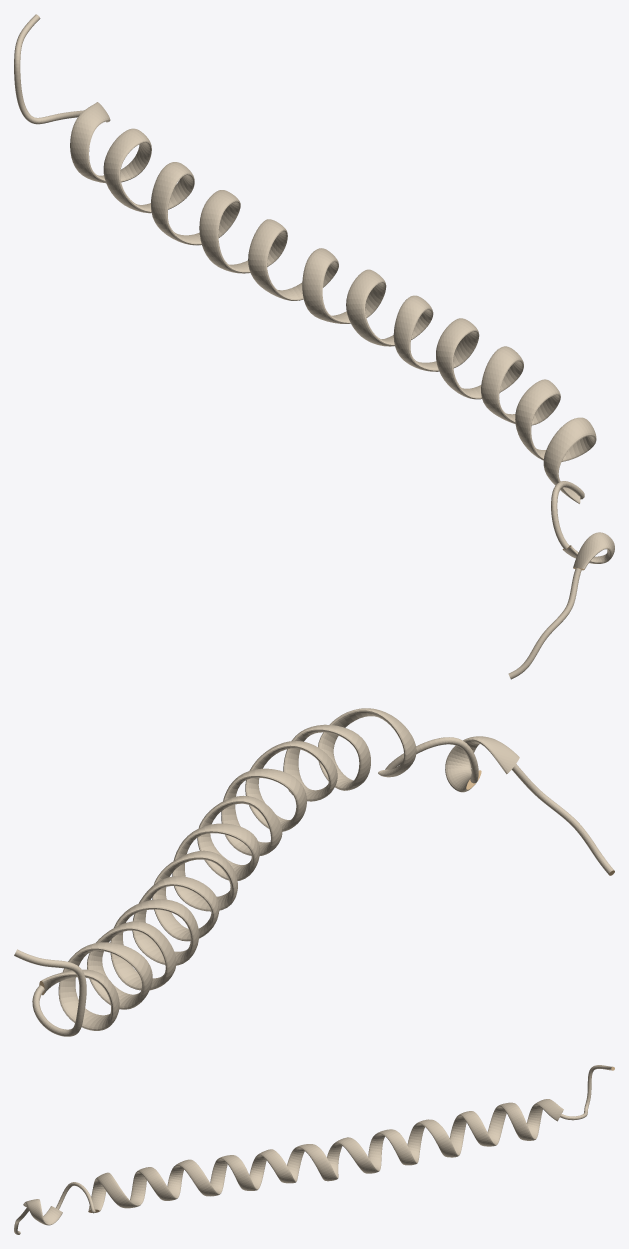
Rendered from SheetfCoilHelix.dae.
3 views of the same model, one above another, from view 1: azimuth 30°, elevation 25°; view 2: azimuth 150°, elevation 25°; view 3: azimuth 270°, elevation 25° (orthographic). The views are drawn at different scales.
Visible parts, largest first — view 1: Shape_IndexedTriangleStripSet_054; view 2: Shape_IndexedTriangleStripSet_054; view 3: Shape_IndexedTriangleStripSet_054.
Boxes of the visible parts, x1=… form: Shape_IndexedTriangleStripSet_054: x1=14, y1=14, x2=614, y2=679; Shape_IndexedTriangleStripSet_054: x1=14, y1=708, x2=614, y2=1036; Shape_IndexedTriangleStripSet_054: x1=14, y1=1065, x2=614, y2=1234.
Size of the model in its own units: 16.57 by 78.44 by 25.23.
